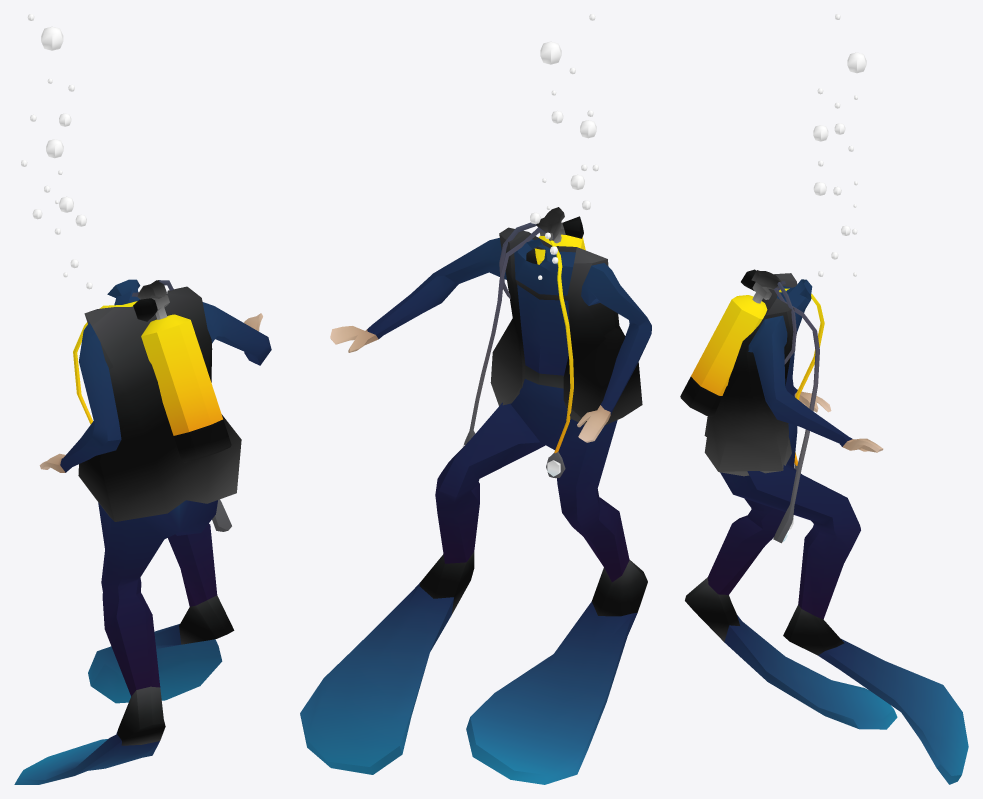
File: diver_body.glb
3 renders of one model, left to right at view 1: azimuth 30°, elevation 25°; view 2: azimuth 150°, elevation 25°; view 3: azimuth 270°, elevation 25°, orthographic. The views are drawn at different scales.
Parts seen in each view (by area): view 1: body; view 2: body; view 3: body.
Part boxes in pixels (x1=…): body: x1=14, y1=14, x2=271, y2=784; body: x1=300, y1=14, x2=651, y2=784; body: x1=680, y1=14, x2=968, y2=784.
Bounding box in the file's own units: 0.4421 × 1.3 × 0.4997.
1 material, 1 textured.
